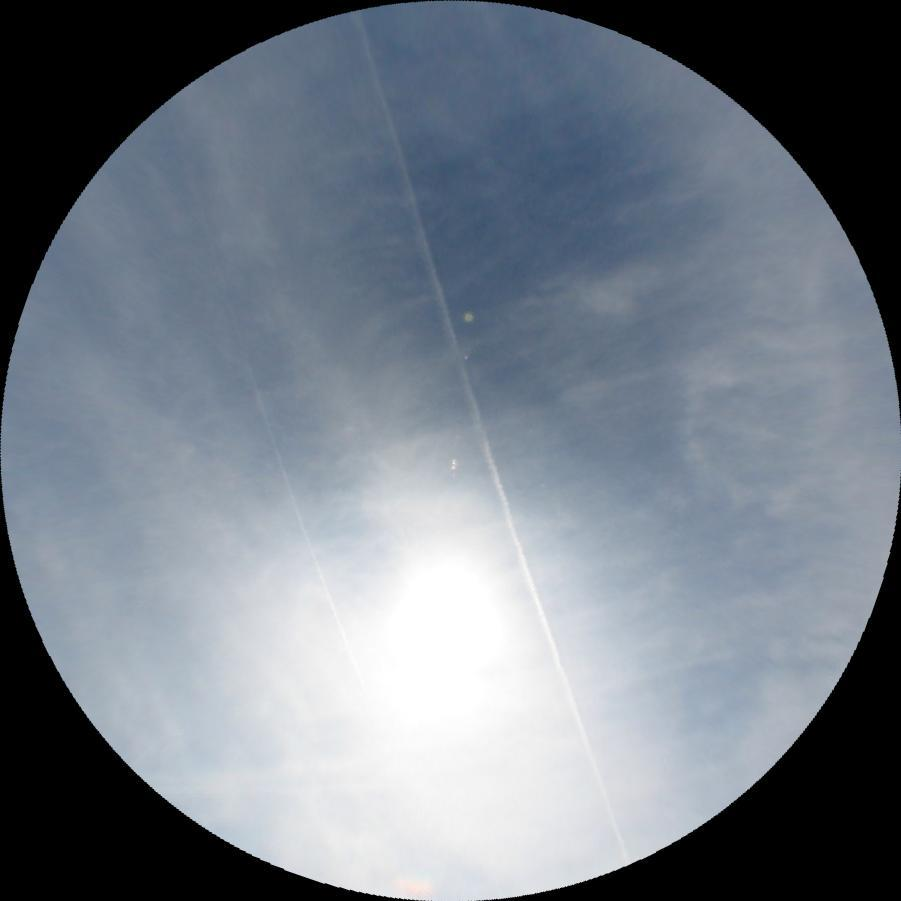contrail old: (346, 8, 630, 868), (251, 387, 369, 693)
sun: (381, 555, 513, 678)
